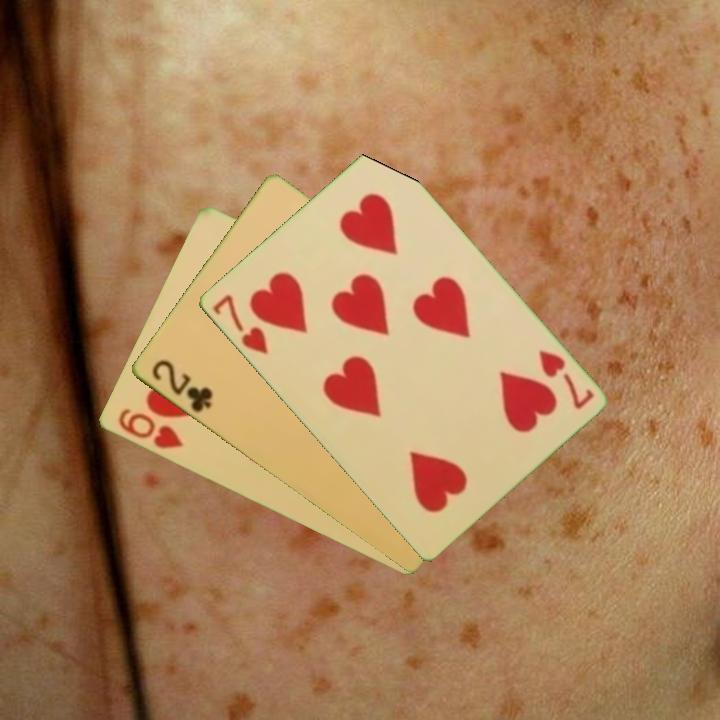2c: (147, 356, 216, 416)
6h: (114, 405, 186, 452)
7h: (208, 290, 271, 358), (534, 346, 597, 413)
